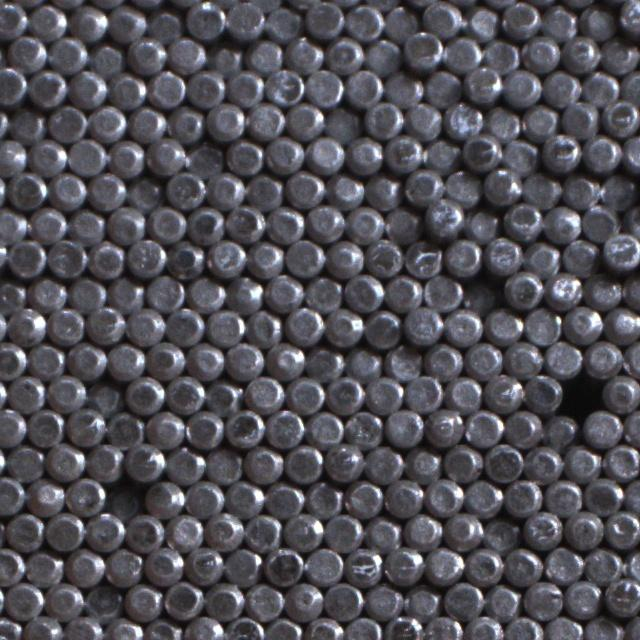tool: (324, 441, 364, 482), (143, 545, 183, 585), (264, 134, 304, 174), (284, 168, 324, 208), (162, 580, 202, 620), (324, 580, 364, 620), (263, 545, 303, 585), (126, 236, 165, 276), (224, 407, 264, 446), (65, 546, 104, 586), (325, 238, 364, 278), (382, 545, 422, 584), (66, 406, 105, 446), (543, 544, 583, 583), (303, 544, 342, 584), (324, 34, 364, 73), (125, 511, 164, 551), (364, 443, 404, 482), (125, 442, 164, 482), (344, 408, 384, 447), (503, 269, 543, 308), (385, 132, 424, 172), (403, 166, 442, 206), (185, 408, 224, 448), (442, 443, 482, 482), (384, 407, 424, 446), (244, 372, 284, 411), (541, 132, 580, 172), (462, 132, 502, 171), (305, 202, 344, 242), (85, 440, 124, 480), (7, 170, 47, 209), (523, 579, 562, 619), (25, 476, 64, 516), (383, 476, 422, 516), (165, 168, 204, 208), (64, 475, 104, 514), (106, 409, 145, 449), (106, 4, 145, 44), (144, 477, 183, 517), (583, 474, 622, 514), (403, 511, 442, 550), (403, 305, 442, 344), (424, 545, 463, 584), (47, 238, 86, 277), (45, 441, 84, 480), (523, 305, 562, 344), (147, 203, 186, 242), (443, 510, 482, 549), (45, 511, 84, 550), (482, 166, 521, 205), (523, 509, 562, 548), (464, 408, 503, 447), (305, 409, 344, 448), (184, 545, 223, 584), (325, 512, 364, 551), (483, 306, 522, 345), (187, 205, 226, 244), (265, 408, 304, 447), (403, 240, 442, 279), (186, 67, 225, 106), (67, 67, 106, 106), (146, 409, 185, 448), (86, 304, 125, 343), (285, 237, 324, 276), (27, 67, 66, 106), (344, 1, 383, 40), (442, 33, 481, 72), (125, 374, 164, 413), (601, 373, 640, 412), (523, 372, 562, 411), (561, 33, 600, 72), (344, 271, 383, 310), (225, 478, 264, 517), (424, 272, 463, 311), (165, 374, 204, 413), (304, 480, 343, 519), (485, 442, 524, 481), (7, 373, 46, 412), (343, 545, 382, 584), (383, 272, 422, 311), (424, 476, 463, 515), (3, 580, 42, 619), (204, 582, 243, 621), (264, 65, 303, 104), (544, 338, 582, 378), (502, 546, 540, 586), (244, 444, 282, 484), (426, 406, 464, 446), (104, 546, 142, 586), (86, 511, 124, 551), (246, 238, 284, 278), (206, 236, 244, 276), (26, 340, 64, 380), (146, 339, 184, 379), (504, 200, 542, 240), (344, 478, 382, 518), (28, 136, 66, 176), (524, 442, 562, 482), (583, 339, 621, 379), (284, 442, 322, 482), (6, 510, 44, 550), (502, 477, 542, 515), (45, 580, 83, 620), (483, 235, 521, 275), (284, 512, 324, 550), (286, 100, 324, 140), (424, 197, 464, 235), (166, 238, 204, 278), (285, 580, 323, 620), (125, 306, 164, 344), (224, 545, 262, 584), (127, 34, 165, 73), (26, 408, 64, 447), (48, 103, 86, 142), (25, 547, 63, 586), (225, 340, 263, 379), (324, 307, 363, 345), (48, 34, 87, 72), (67, 136, 106, 174), (444, 236, 482, 275), (68, 4, 107, 42), (166, 306, 205, 344), (284, 306, 323, 344), (185, 341, 224, 379), (87, 239, 125, 278), (165, 444, 203, 483), (382, 204, 420, 243), (364, 237, 402, 276), (205, 307, 243, 346), (166, 511, 204, 550), (27, 2, 66, 40), (545, 269, 583, 308), (582, 133, 620, 172), (363, 309, 401, 348), (443, 581, 482, 619), (47, 373, 86, 411), (147, 68, 185, 107), (225, 204, 264, 242), (206, 170, 245, 208), (464, 545, 502, 584), (345, 135, 383, 174), (344, 67, 383, 105), (106, 205, 144, 244), (48, 170, 86, 209), (564, 509, 602, 548), (106, 137, 144, 176), (464, 63, 502, 102), (264, 480, 302, 519), (8, 238, 46, 277), (146, 272, 184, 311), (8, 305, 46, 344), (105, 341, 143, 380), (8, 33, 46, 72), (445, 373, 484, 411), (266, 340, 304, 379), (365, 373, 403, 412), (205, 102, 244, 140), (304, 0, 343, 38), (5, 442, 43, 481), (541, 68, 579, 107), (185, 479, 223, 518), (304, 273, 342, 312), (264, 272, 302, 311), (563, 578, 602, 616), (404, 444, 442, 483), (365, 98, 403, 137), (246, 99, 284, 138), (482, 513, 520, 552), (559, 99, 598, 137), (84, 586, 123, 624), (584, 546, 622, 585), (384, 341, 422, 380), (582, 409, 620, 447), (503, 408, 541, 446), (128, 104, 166, 142), (305, 67, 343, 105), (444, 307, 482, 345), (167, 104, 205, 142), (521, 33, 559, 71), (403, 582, 441, 620), (88, 104, 126, 142), (504, 339, 542, 377), (67, 340, 105, 378), (204, 446, 242, 484), (147, 136, 185, 174), (423, 67, 461, 105), (124, 582, 162, 620), (166, 34, 204, 72), (225, 137, 263, 175), (404, 372, 442, 410), (382, 4, 420, 42), (484, 372, 522, 410), (562, 442, 600, 480), (482, 582, 520, 620), (305, 134, 343, 172), (245, 582, 283, 620), (324, 104, 362, 142), (500, 136, 538, 174), (522, 239, 560, 277), (564, 305, 602, 343), (186, 0, 224, 38), (244, 512, 282, 550), (87, 171, 125, 209), (146, 5, 184, 43), (246, 306, 284, 344), (540, 3, 578, 41), (543, 477, 581, 515), (365, 582, 403, 620), (225, 274, 263, 312), (502, 0, 540, 38), (384, 69, 422, 107), (600, 36, 638, 74), (482, 36, 520, 74), (108, 70, 146, 108), (186, 274, 224, 312), (326, 374, 364, 412), (404, 99, 442, 137), (245, 170, 283, 208), (364, 514, 402, 552), (560, 236, 598, 274), (598, 172, 636, 210), (326, 170, 364, 208), (8, 105, 46, 143), (562, 171, 600, 209), (364, 35, 402, 73), (284, 34, 322, 72), (464, 478, 502, 516), (285, 375, 323, 413), (363, 171, 401, 209), (522, 170, 560, 208), (602, 97, 640, 135), (68, 274, 106, 312), (204, 376, 242, 414), (206, 38, 244, 76), (304, 343, 342, 381), (563, 372, 601, 410), (104, 482, 142, 520), (227, 66, 264, 105), (205, 511, 242, 550), (503, 67, 540, 106), (28, 206, 67, 243), (423, 0, 462, 37), (604, 508, 640, 548), (603, 441, 640, 479), (48, 306, 85, 344), (424, 341, 462, 378), (542, 205, 580, 242), (579, 2, 616, 40), (603, 232, 640, 270), (346, 205, 384, 242), (404, 31, 442, 68), (265, 205, 303, 242), (464, 341, 502, 378), (443, 101, 481, 138), (580, 69, 618, 106), (344, 343, 382, 380), (107, 274, 144, 312), (541, 411, 579, 448), (227, 0, 264, 38), (444, 167, 481, 205), (463, 2, 500, 40), (264, 4, 302, 41), (464, 205, 501, 243), (462, 274, 499, 312), (186, 140, 223, 178), (521, 103, 558, 140), (246, 36, 283, 73), (68, 206, 105, 243), (423, 136, 460, 173), (580, 204, 617, 241), (483, 104, 520, 141), (30, 274, 67, 311), (86, 378, 123, 415), (126, 174, 163, 211), (604, 306, 640, 344), (584, 272, 622, 308), (87, 40, 124, 76), (605, 576, 640, 614), (544, 613, 584, 640), (0, 136, 27, 176), (0, 274, 28, 312), (504, 613, 543, 640), (23, 613, 62, 640), (424, 613, 463, 640), (384, 613, 423, 640), (184, 614, 224, 640), (584, 613, 622, 640), (465, 613, 503, 640), (344, 614, 383, 640), (0, 0, 26, 39), (0, 64, 25, 104), (0, 474, 25, 514), (0, 546, 25, 586), (0, 205, 27, 242), (304, 614, 342, 640), (0, 406, 26, 444), (64, 614, 102, 640), (104, 614, 142, 640), (0, 340, 25, 379), (143, 615, 182, 640), (224, 616, 264, 640), (264, 616, 303, 640), (620, 65, 640, 103), (619, 0, 640, 35), (622, 407, 640, 446), (622, 132, 640, 170), (622, 271, 640, 309), (623, 337, 640, 376), (623, 476, 640, 514), (623, 204, 640, 241)
